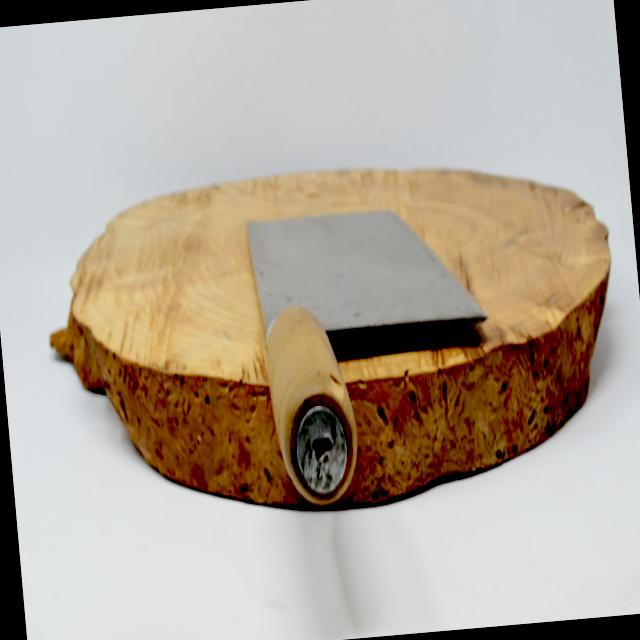cleaver: (232, 194, 508, 530)
